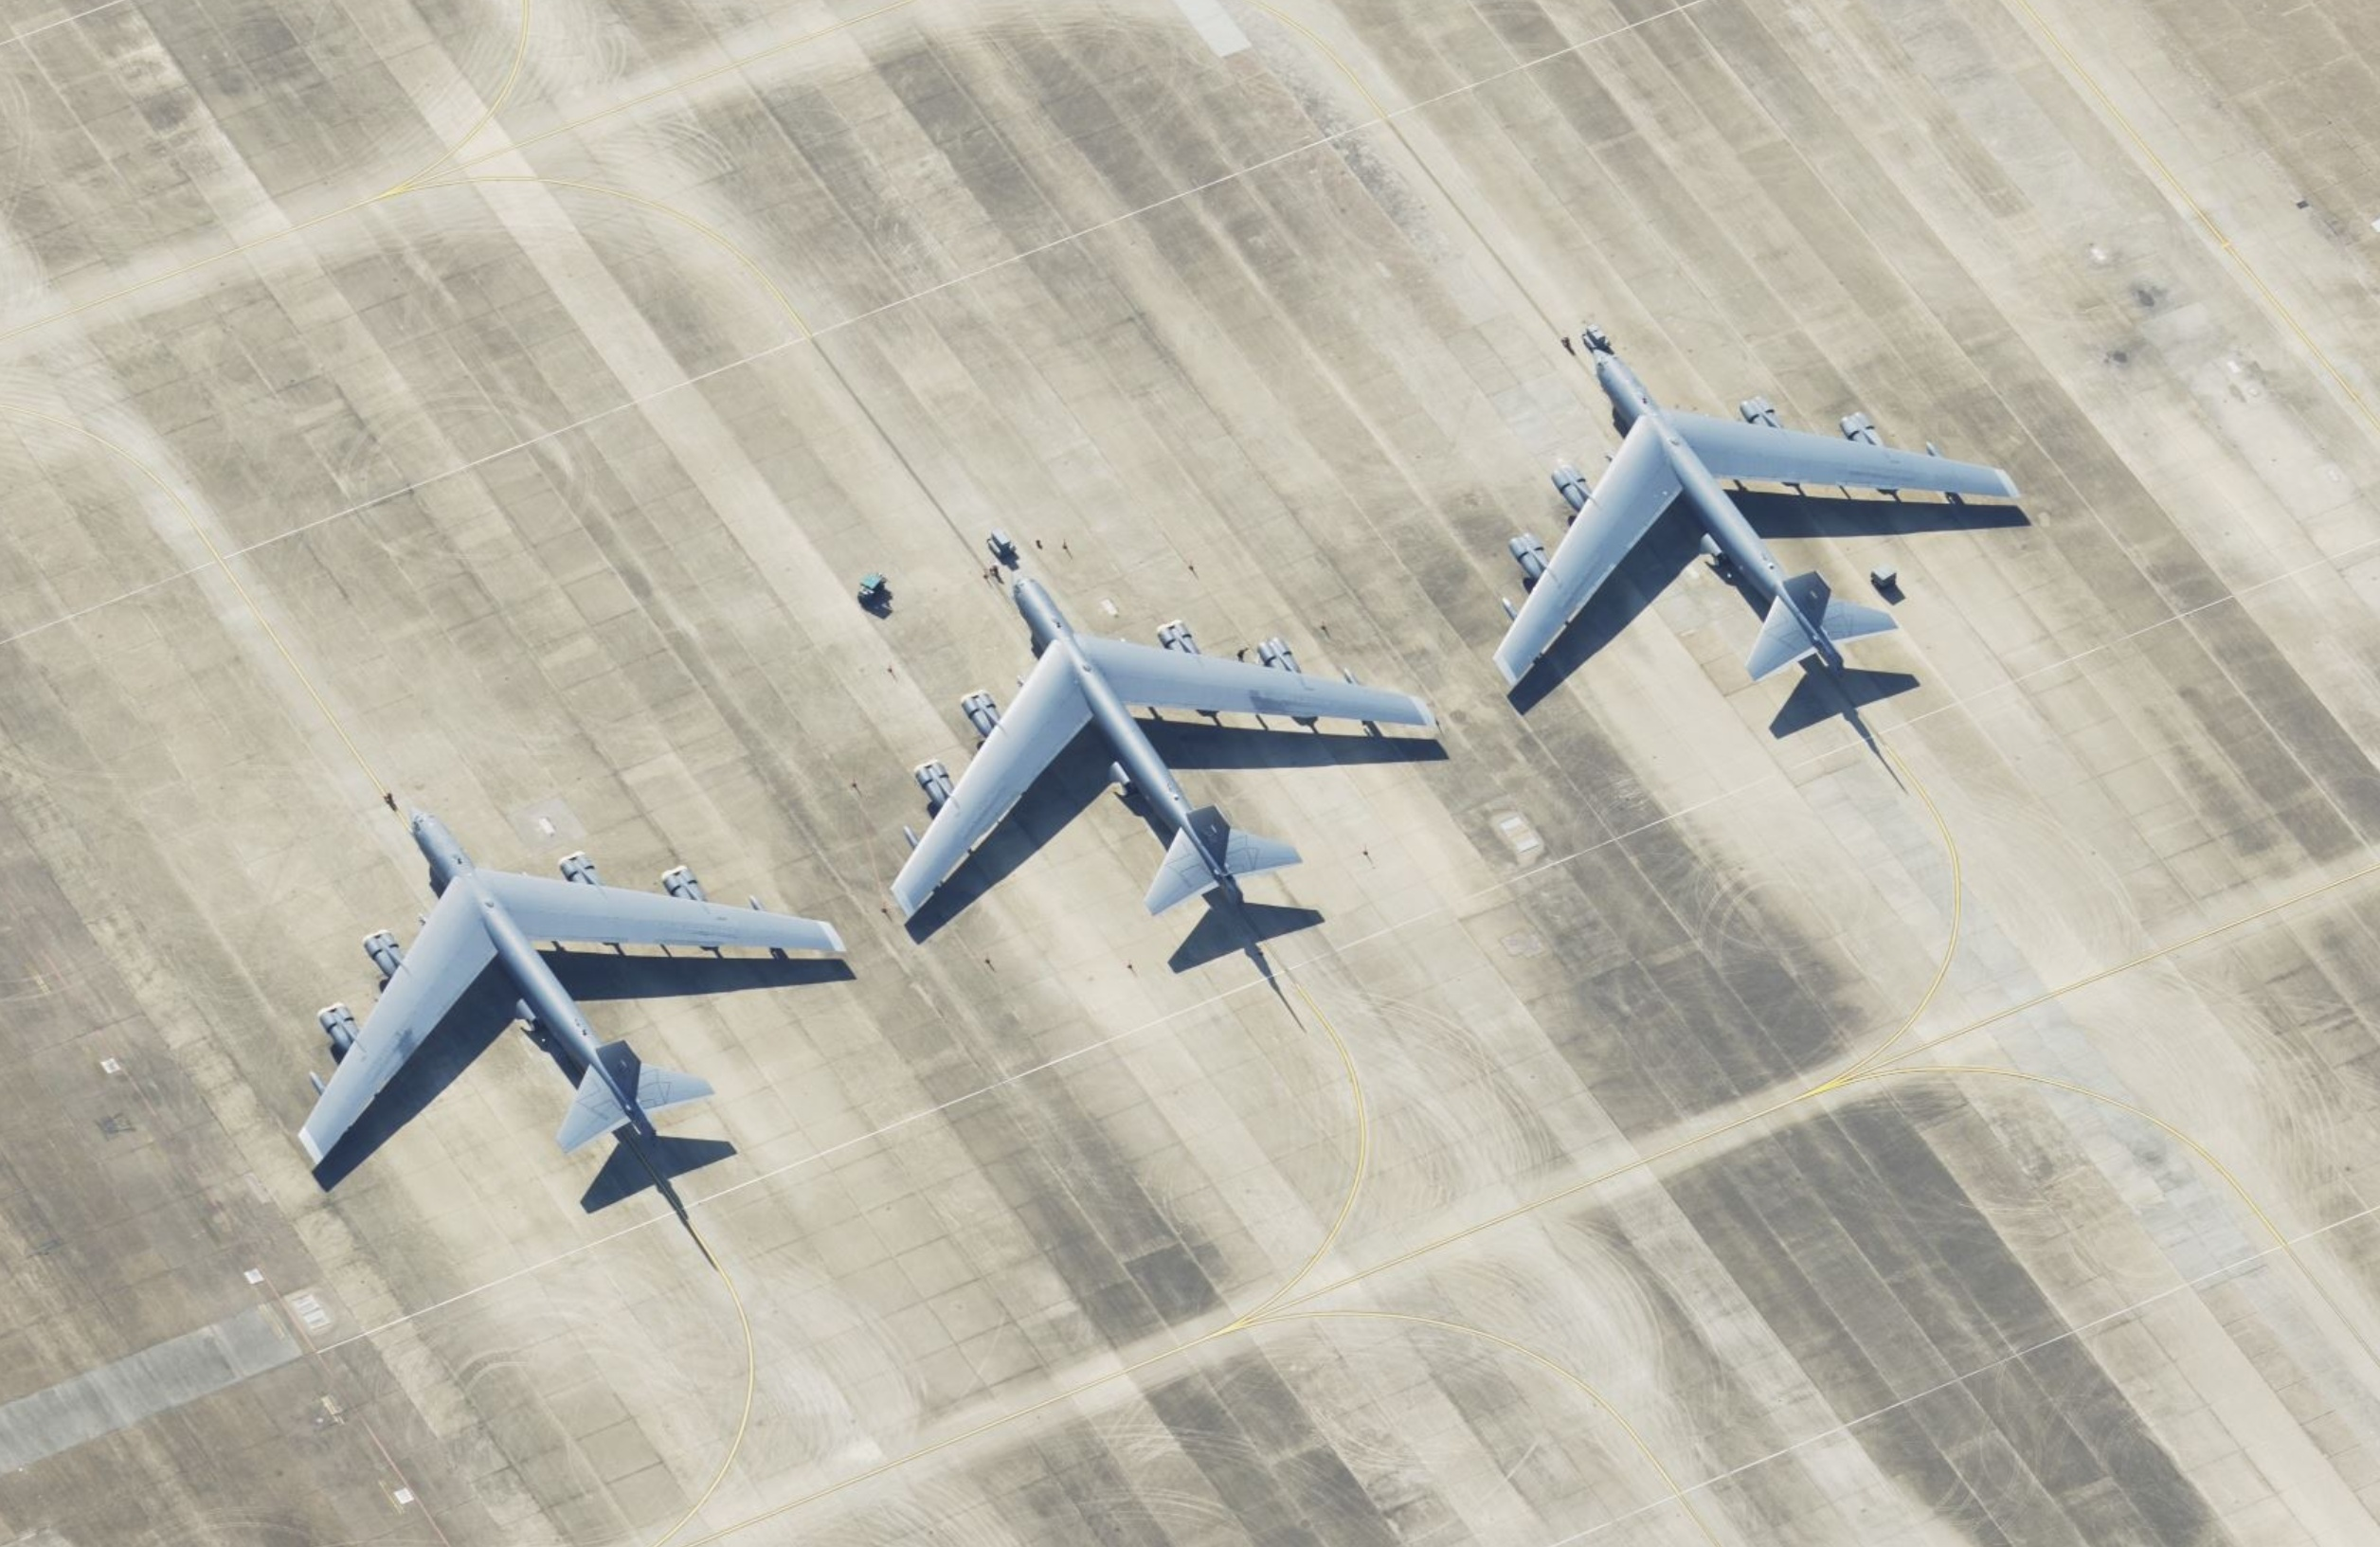B52: (297, 805, 847, 1165), (890, 569, 1436, 919), (1492, 350, 2019, 689)
